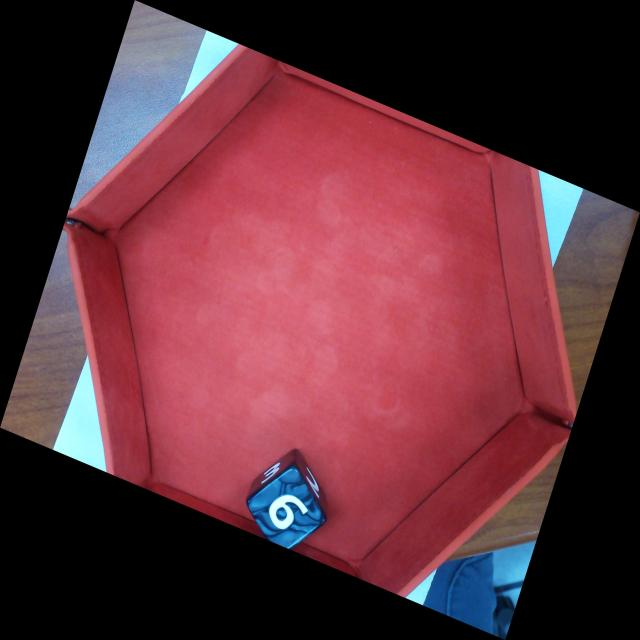dice: (242, 462, 329, 561)
